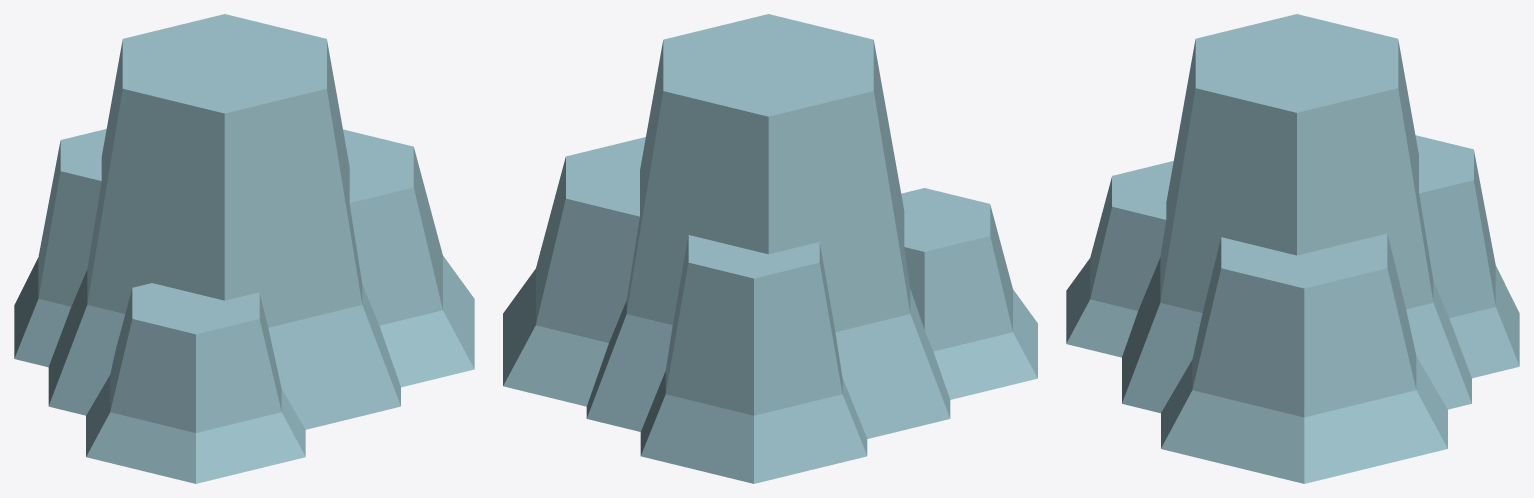
The model's file is rocksTall.dae.
3 views of the same model, side by side, from view 1: azimuth 30°, elevation 25°; view 2: azimuth 150°, elevation 25°; view 3: azimuth 270°, elevation 25° (orthographic). The views are drawn at different scales.
Parts seen in each view (by area): view 1: rocksTall; view 2: rocksTall; view 3: rocksTall.
Part boxes in pixels (x1,y1,x2,y2): rocksTall: (14,14,474,483); rocksTall: (503,14,1037,483); rocksTall: (1066,14,1519,483).
Bounding box in the file's own units: 0.9342 × 0.59 × 0.8148.
